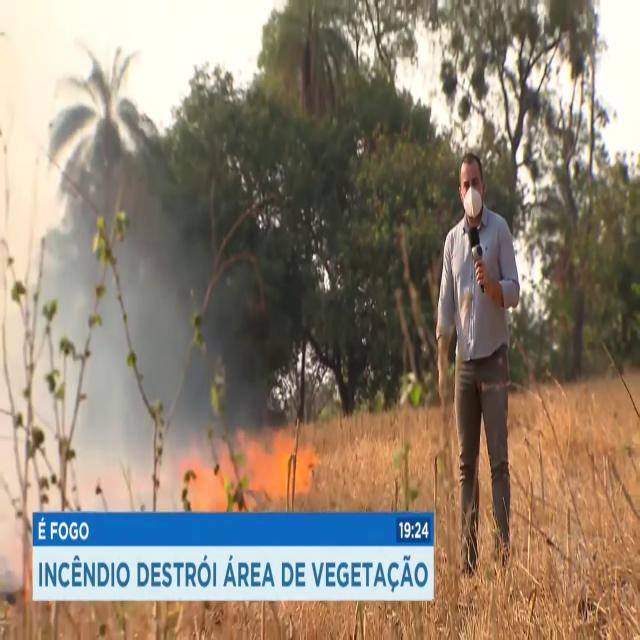Fire: (177, 410, 324, 510)
Smoke: (0, 162, 256, 510)
